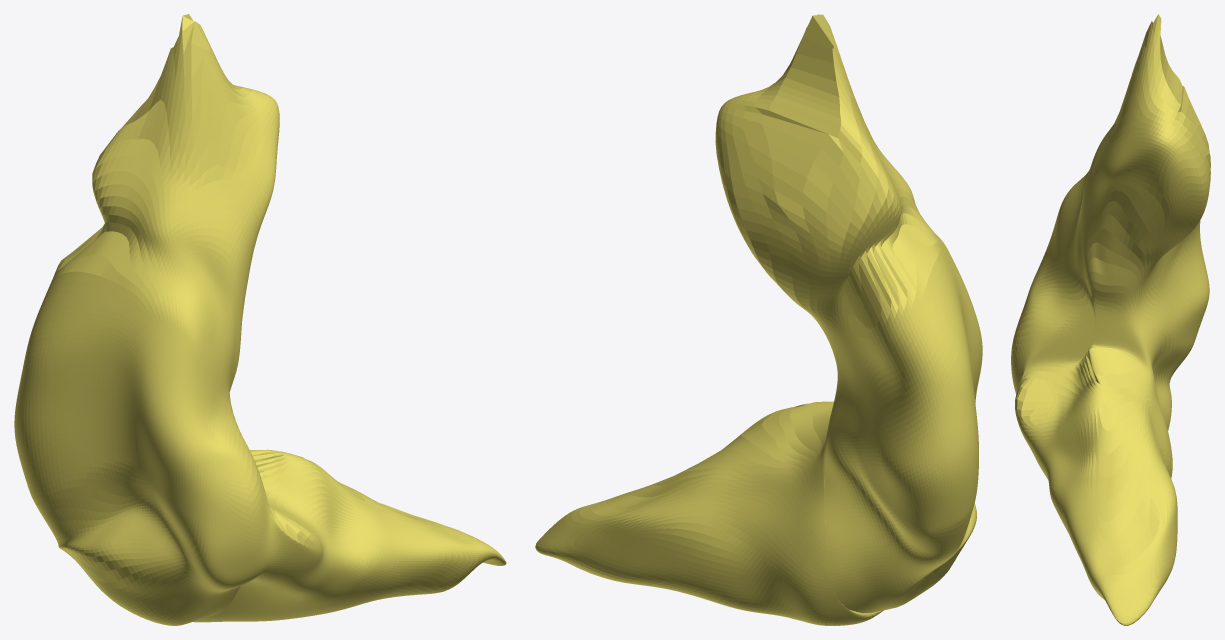
File: ExportedBlenderFBXFile.fbx
The picture shows the model from 3 angles, left to right: view 1: azimuth 30°, elevation 25°; view 2: azimuth 150°, elevation 25°; view 3: azimuth 270°, elevation 25°; orthographic projection. The views are drawn at different scales.
Visible parts, largest first — view 1: Quad Sphere; view 2: Quad Sphere; view 3: Quad Sphere.
Boxes of the visible parts, box(x1,y1,x2,y2) form: Quad Sphere: box(14, 14, 506, 625); Quad Sphere: box(535, 14, 982, 625); Quad Sphere: box(1011, 14, 1210, 625).
Bounding box in the file's own units: 5.33 × 6.91 × 2.5.
